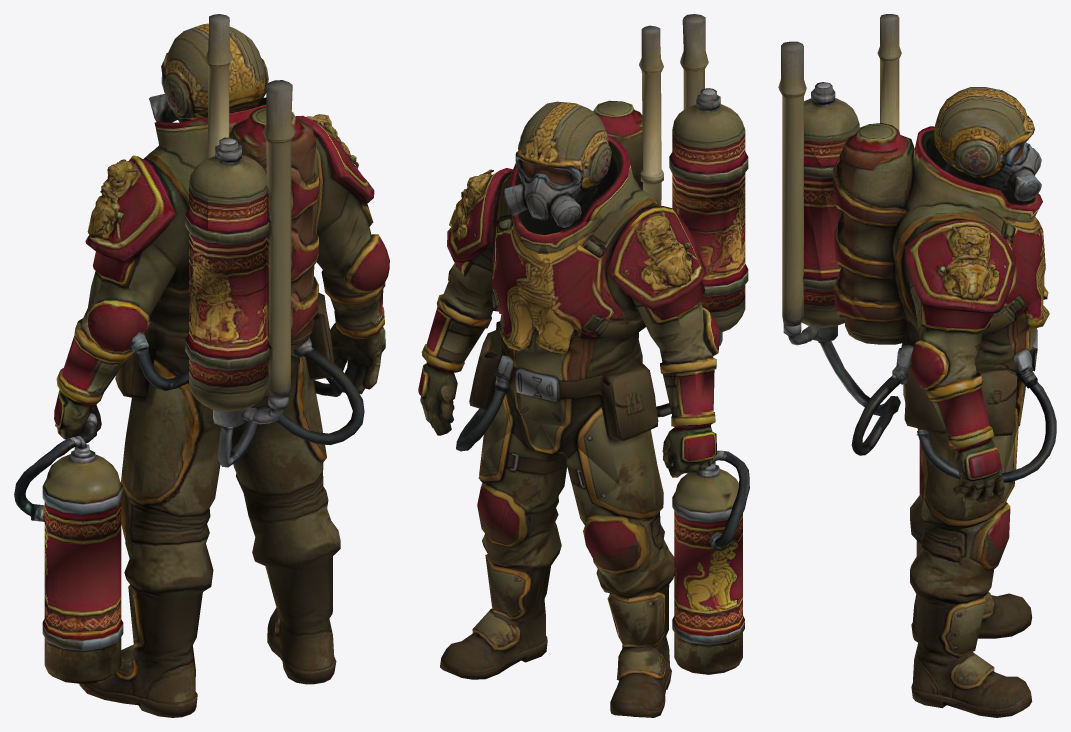
The model's file is amber_scout.glb.
3 renders of one model, left to right at view 1: azimuth 30°, elevation 25°; view 2: azimuth 150°, elevation 25°; view 3: azimuth 270°, elevation 25°, orthographic. The views are drawn at different scales.
Parts seen in each view (by area): view 1: Body, Trim; view 2: Body, Trim; view 3: Body, Trim.
Boxes of the visible parts, x1=… form: Body: x1=14, y1=14, x2=389, y2=717; Trim: x1=56, y1=52, x2=385, y2=680; Body: x1=418, y1=14, x2=749, y2=717; Trim: x1=421, y1=118, x2=745, y2=679; Body: x1=778, y1=14, x2=1056, y2=717; Trim: x1=804, y1=94, x2=1049, y2=678.
Bounding box in the file's own units: 0.9687 × 1.8 × 0.7221.
Materials: 2 (2 with a texture image).
